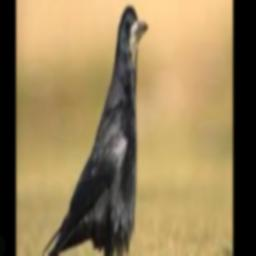Crow: (40, 5, 148, 256)
